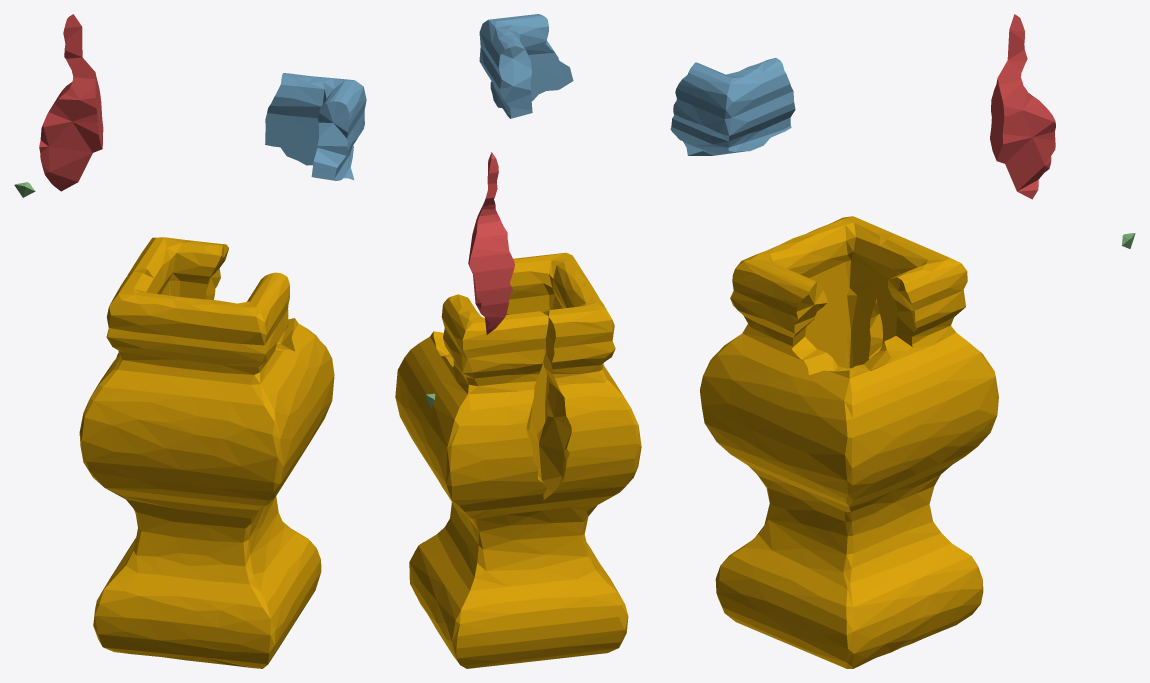
File: fractured_21_4pcs_transformed.glb
3 views of the same model, side by side, from view 1: azimuth 30°, elevation 25°; view 2: azimuth 150°, elevation 25°; view 3: azimuth 270°, elevation 25° (orthographic). The views are drawn at different scales.
Visible parts, largest first — view 1: piece_0.obj, piece_2.obj, piece_1.obj; view 2: piece_0.obj, piece_2.obj, piece_1.obj; view 3: piece_0.obj, piece_2.obj, piece_1.obj.
Boxes of the visible parts, left/top/right/bottom form: piece_0.obj: left=79, top=237, right=334, bottom=668; piece_2.obj: left=265, top=73, right=366, bottom=180; piece_1.obj: left=39, top=14, right=103, bottom=191; piece_0.obj: left=395, top=252, right=641, bottom=668; piece_2.obj: left=479, top=14, right=573, bottom=118; piece_1.obj: left=468, top=152, right=514, bottom=334; piece_0.obj: left=700, top=216, right=998, bottom=668; piece_2.obj: left=670, top=58, right=795, bottom=155; piece_1.obj: left=990, top=14, right=1055, bottom=199.
Size of the model in its own units: 0.7406 by 1.6 by 1.15.
